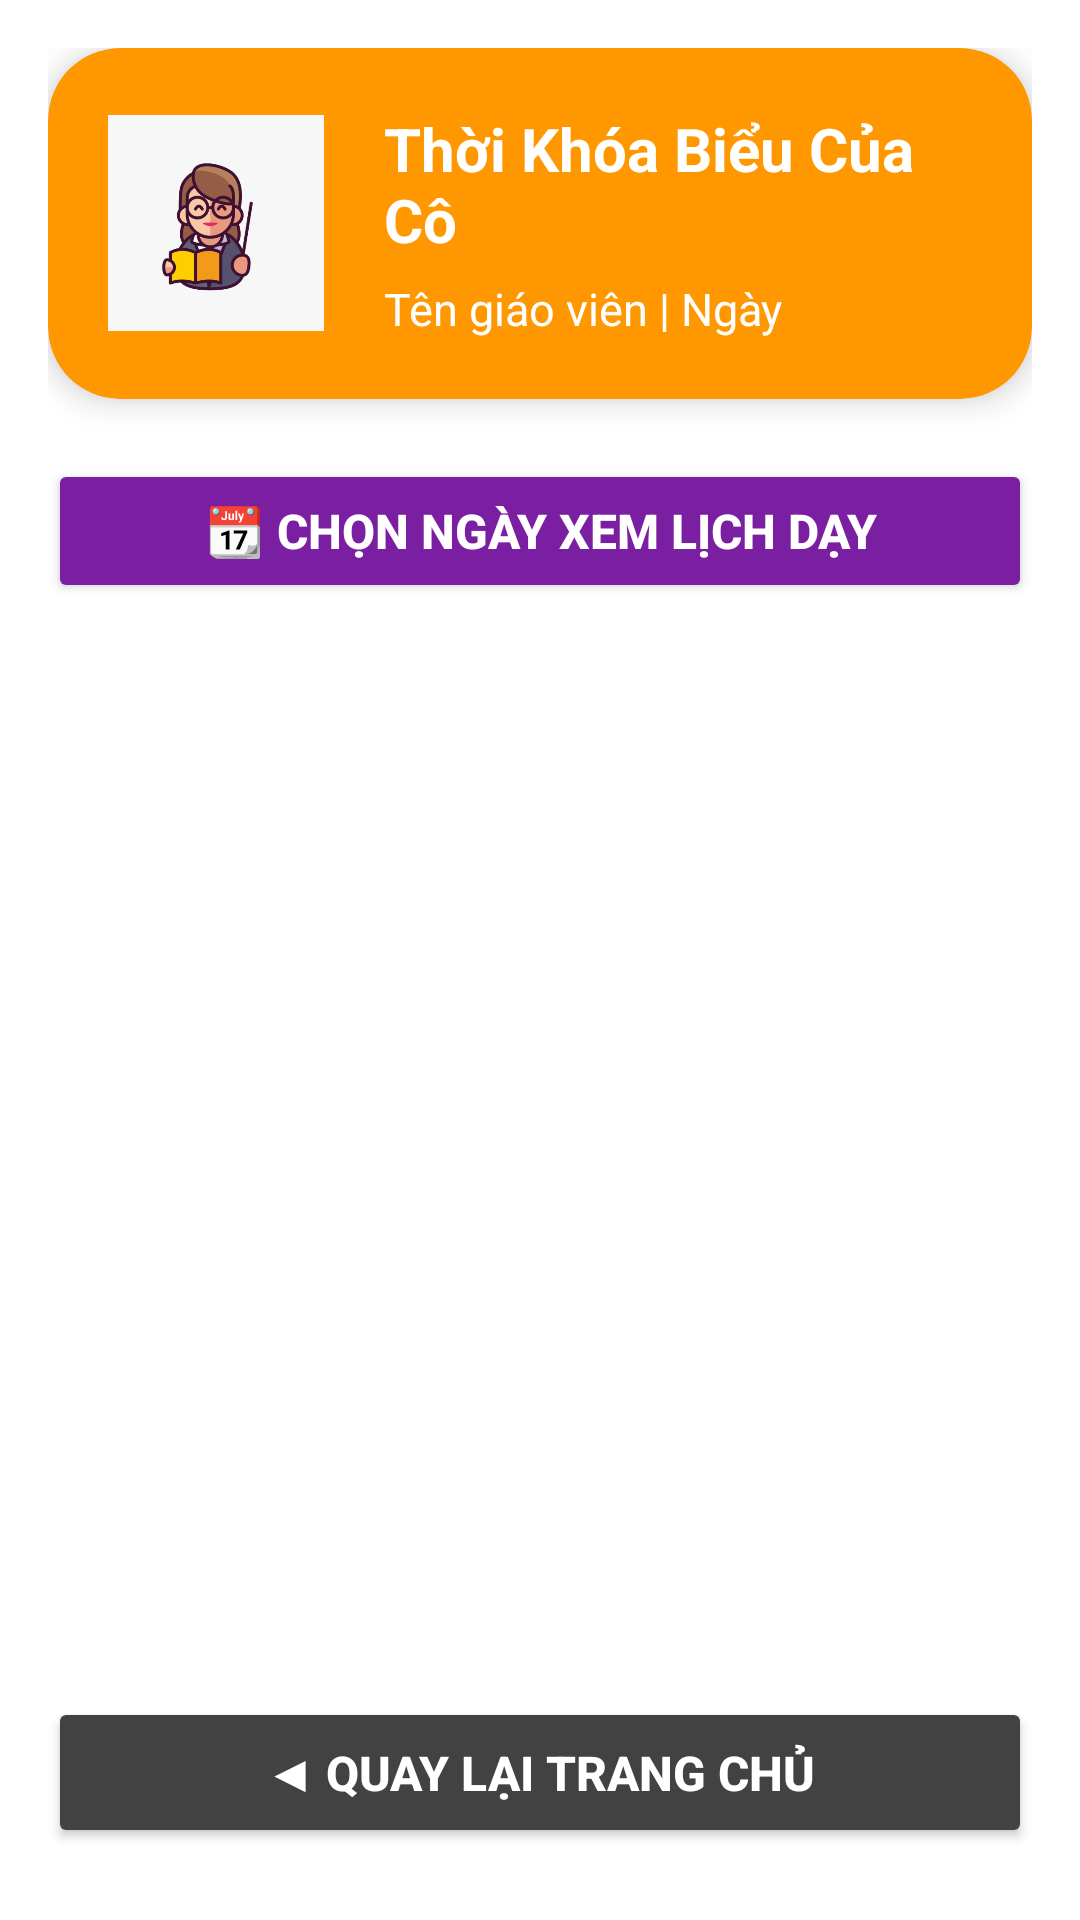

Icon click points for this 1080 × 1920 phone screenshot, format [x,y]:
teacher: [216,223]
